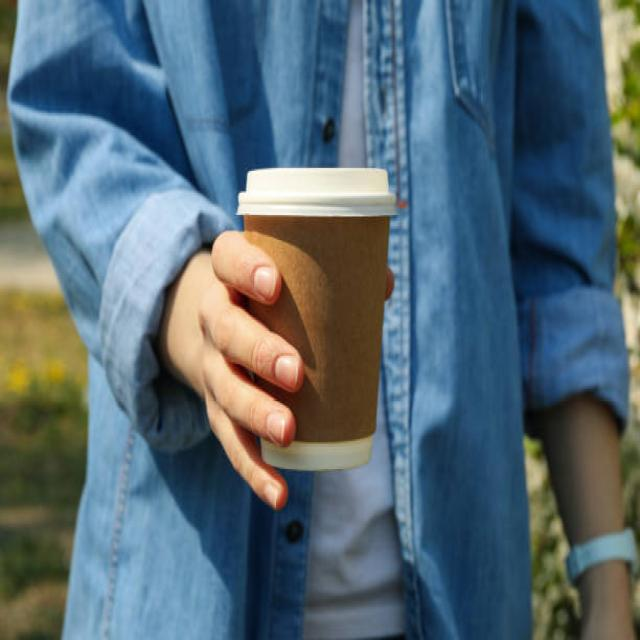cup: (236, 164, 398, 482)
